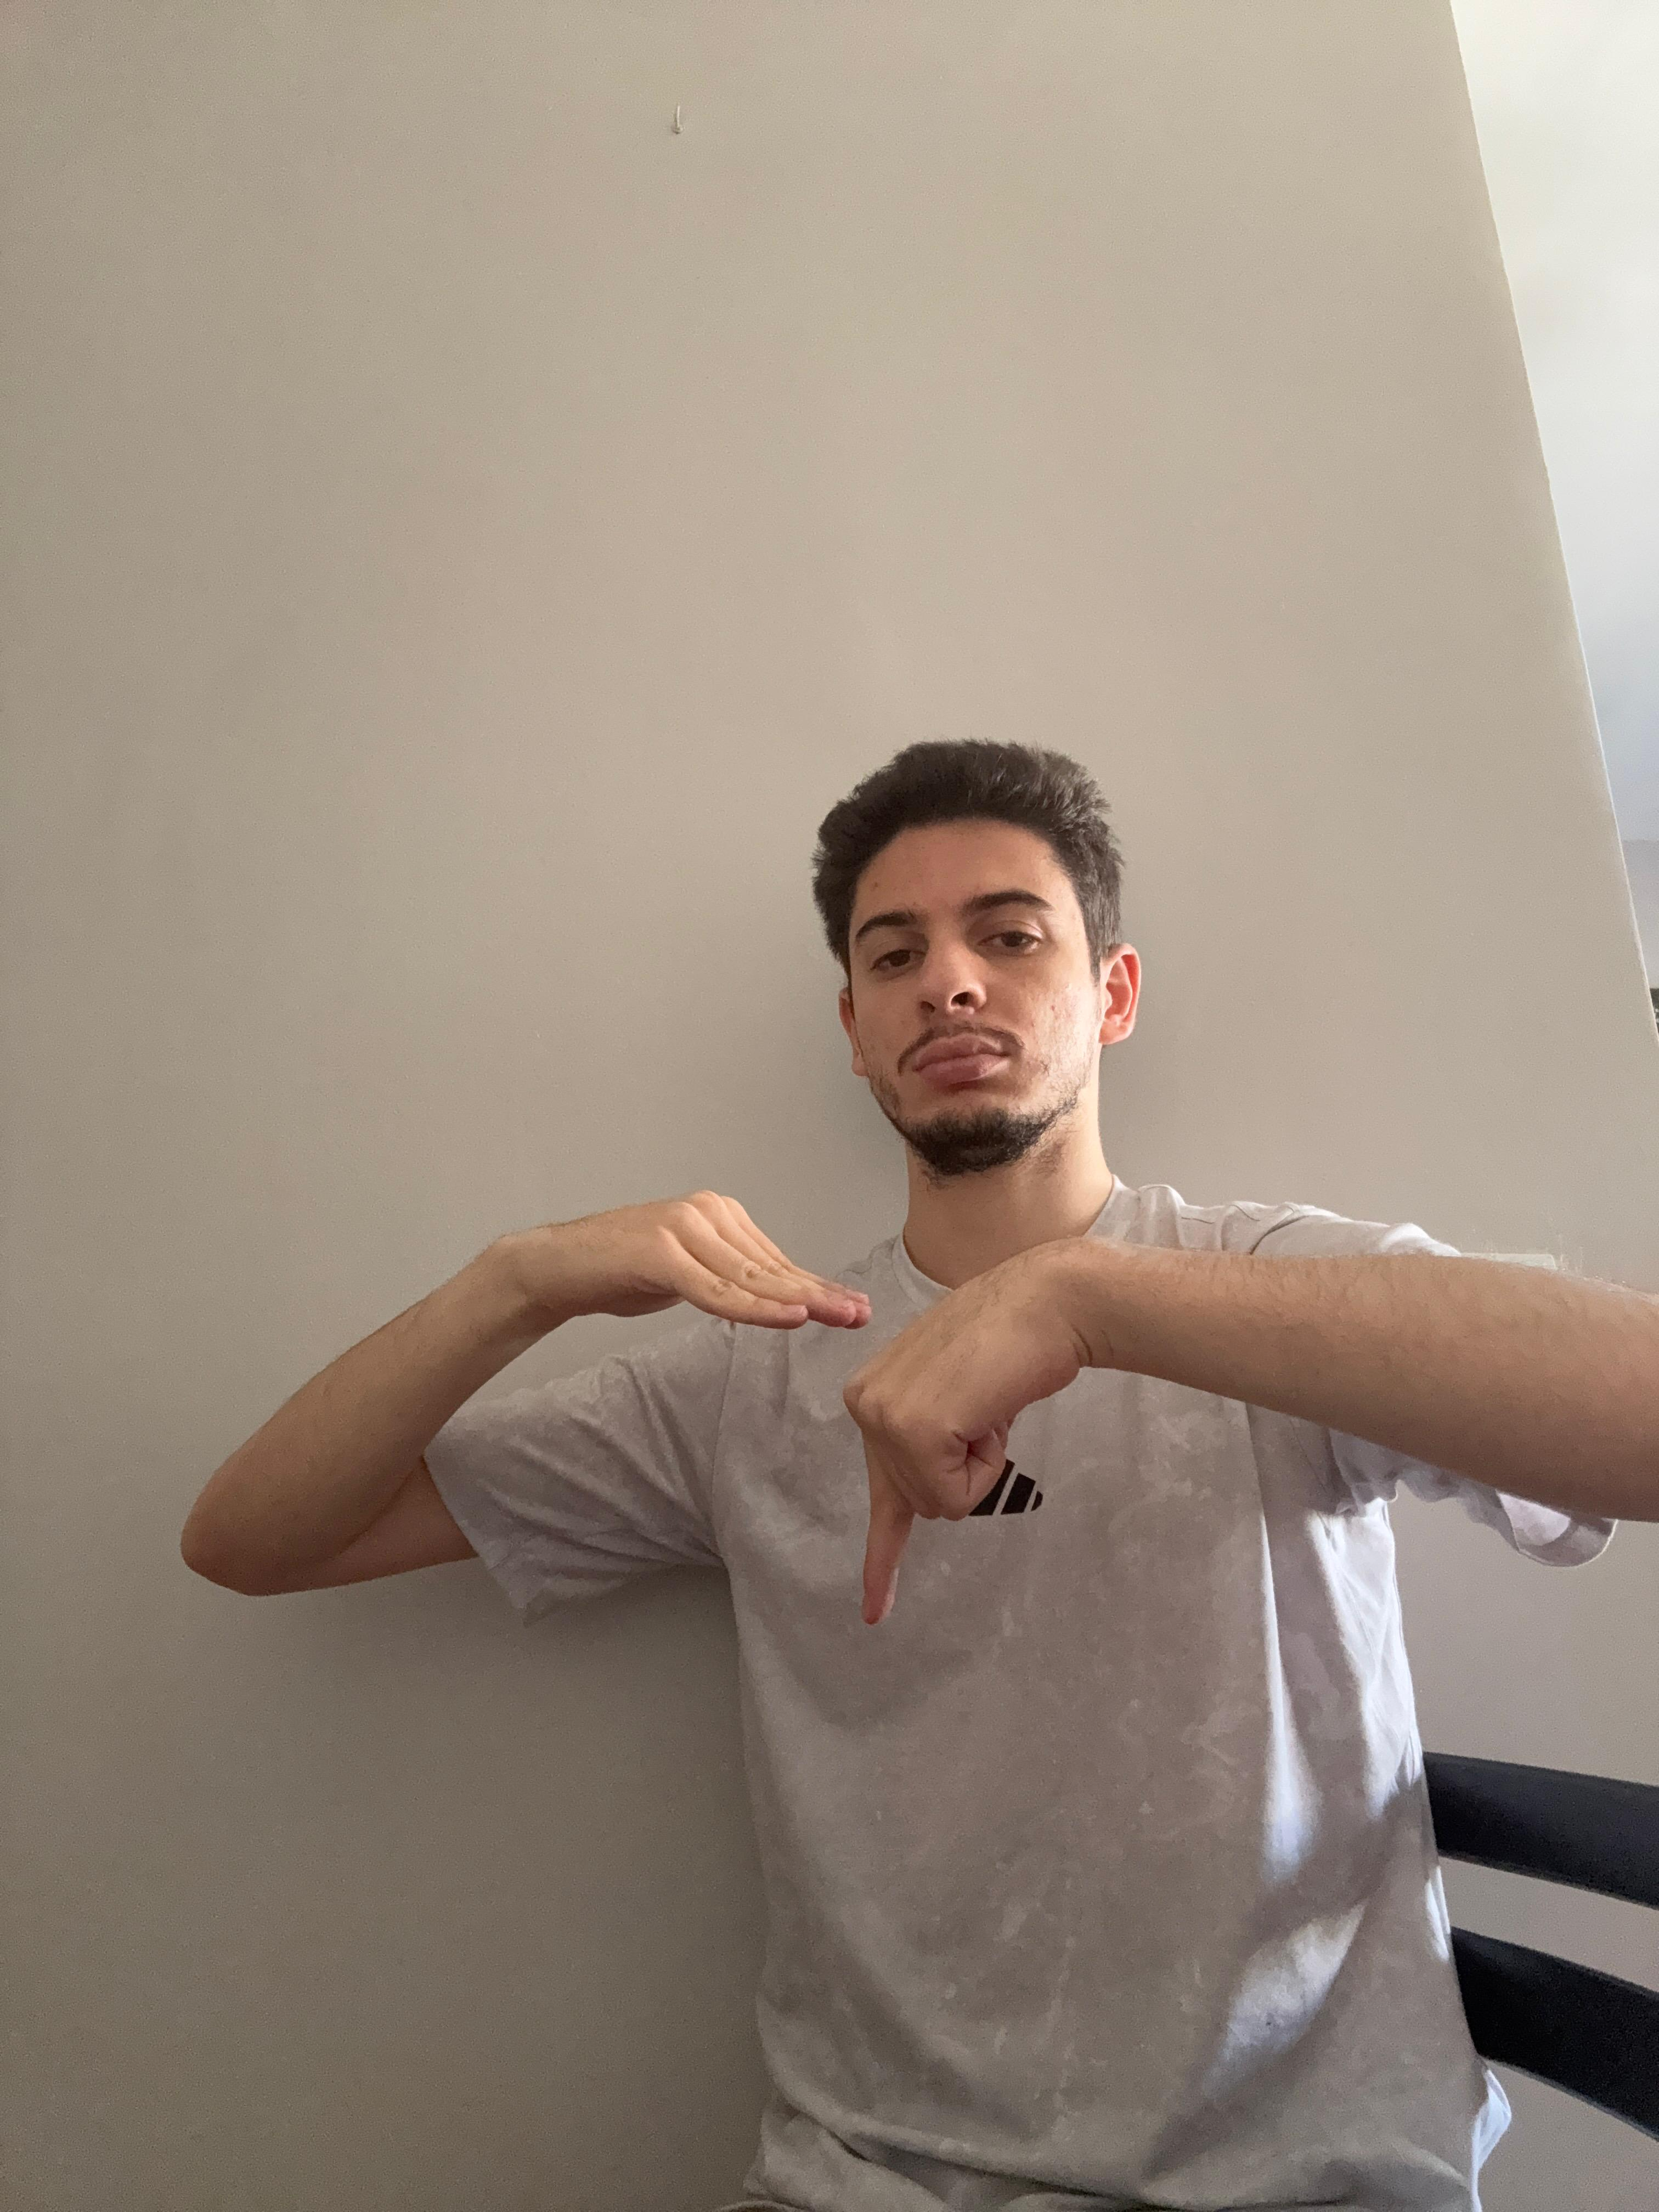deep: (179, 732, 1650, 2198)
